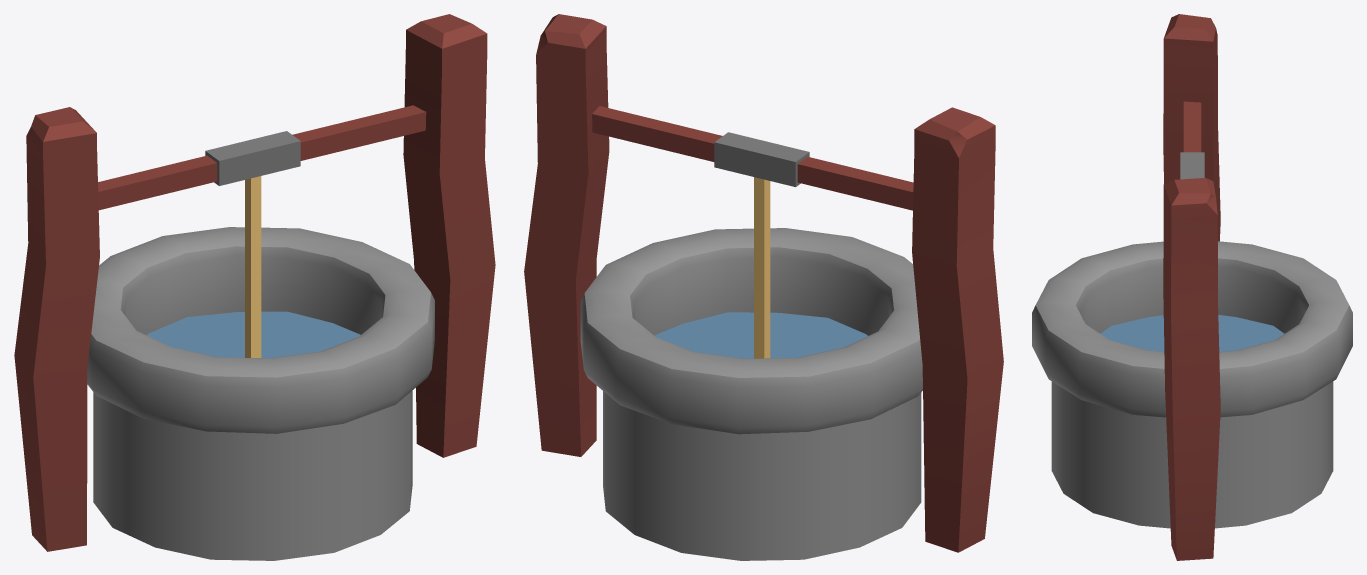
Rendered from Well.fbx.
3 views of the same model, side by side, from view 1: azimuth 30°, elevation 25°; view 2: azimuth 150°, elevation 25°; view 3: azimuth 270°, elevation 25° (orthographic). The views are drawn at different scales.
Visible parts, largest first — view 1: Well; view 2: Well; view 3: Well.
Part boxes in pixels (<box>): Well: <box>14,14,495,560</box>; Well: <box>524,14,1003,560</box>; Well: <box>1032,14,1352,560</box>.
Size of the model in its own units: 331 by 290 by 229.
